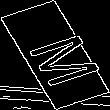M_NE: (11, 24, 99, 86)
